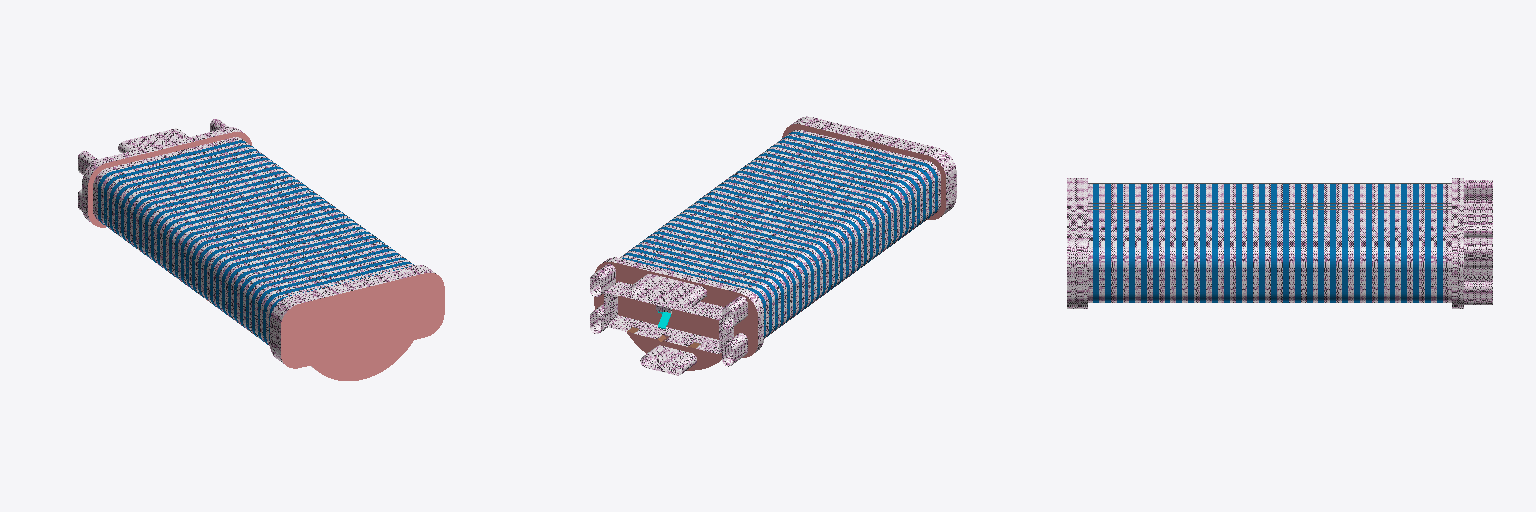
3 renders of one model, left to right at view 1: azimuth 30°, elevation 25°; view 2: azimuth 150°, elevation 25°; view 3: azimuth 270°, elevation 25°, orthographic.
Parts seen in each view (by area): view 1: glaz_01, wall_03, slab_01, wall_04, frame_01, wall_1_01, wall_02, wall_01; view 2: wall_03, glaz_01, slab_01, wall_1_01, wall_04, wall_2_02, frame_01, wall_02, wall_2_01; view 3: glaz_01, wall_03, wall_1_01, wall_04, wall_02, frame_01, wall_01.
Part boxes in pixels (x1,y1,x2,y2): glaz_01: (98,140,413,344); wall_03: (101,143,413,345); slab_01: (86,132,444,380); wall_04: (270,265,435,370); frame_01: (94,139,414,344); wall_1_01: (78,119,228,211); wall_02: (82,127,242,222); wall_01: (93,137,245,221); wall_03: (621,130,940,338); glaz_01: (622,132,937,337); slab_01: (594,124,945,370); wall_1_01: (590,264,747,375); wall_04: (791,116,956,216); wall_2_02: (604,286,727,353); frame_01: (620,130,940,336); wall_02: (603,257,763,352); wall_2_01: (613,281,733,345); glaz_01: (1093,184,1442,302); wall_03: (1088,184,1436,302); wall_1_01: (1464,180,1492,304); wall_04: (1067,178,1087,308); wall_02: (1452,178,1463,308); frame_01: (1088,183,1451,209); wall_01: (1443,184,1451,302).
Size of the model in its own units: 3840 by 2040 by 8640.
Materials: 6 (1 with a texture image).